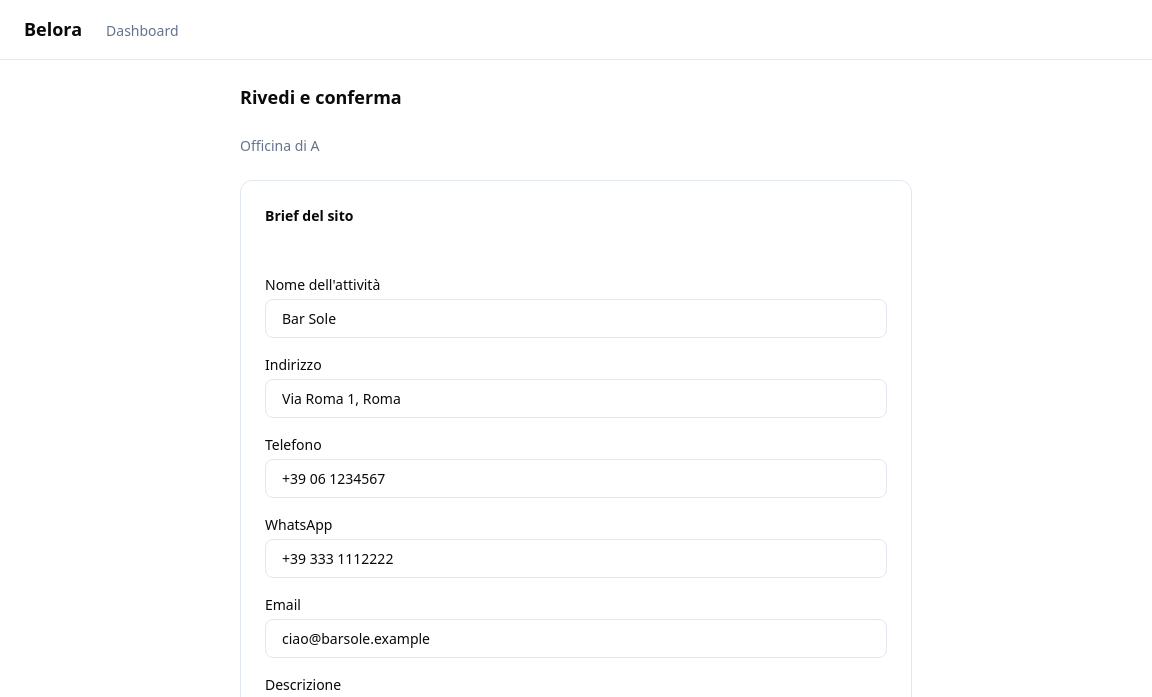
Test: T-152 gli edit del recap passano da upsertBrief › salvataggio riuscito: si dichiara che il server puo scartare campi, non che tutto e salvato
The width and height of the screenshot is (1152, 697).
Replace the text in the field labelled "Nome dell'attività" with "Bar Sole Bis" at (576, 318), box [265,299,887,338]
(page scrolled)
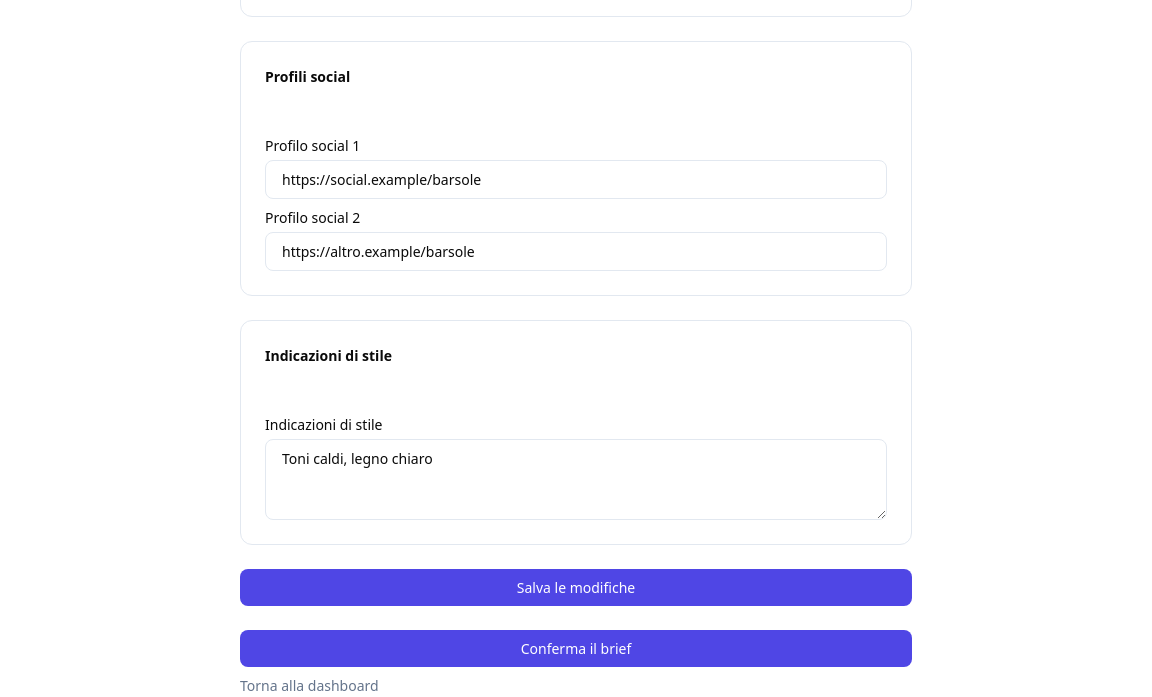
Click the button "Salva le modifiche" at (576, 588), box [240,569,912,606]
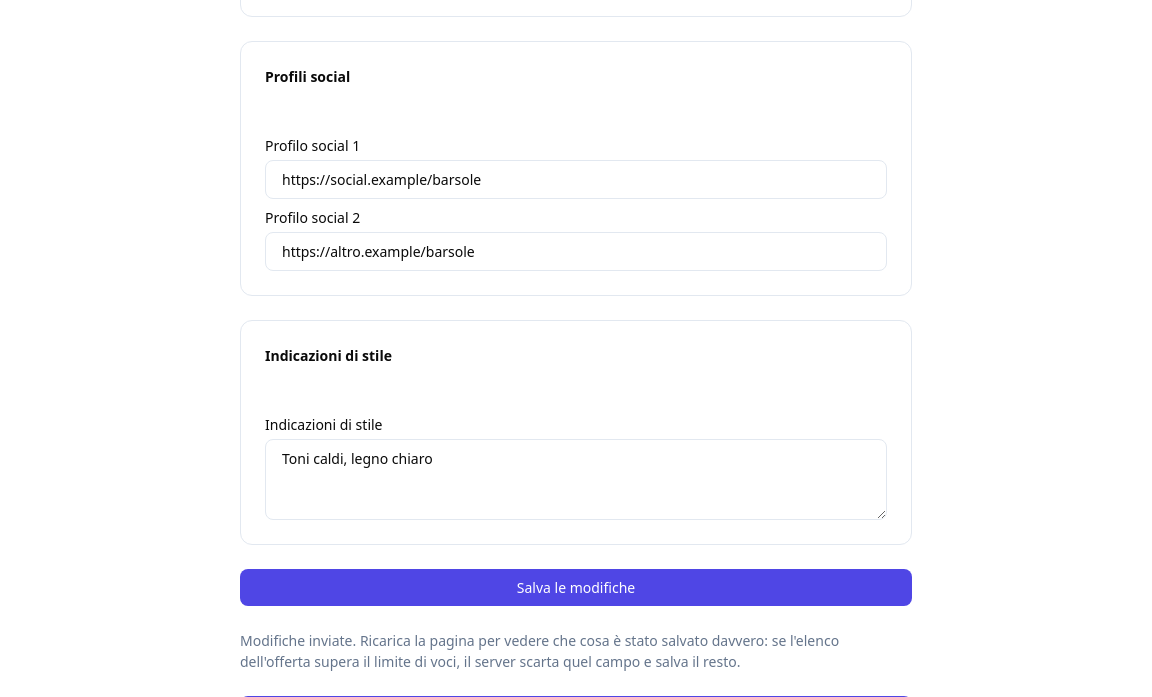
Now the text "Modifiche inviate. Ricarica la pagina per vedere che cosa è stato salvato davvero: se l'elenco dell'offerta supera il li" is shown, box [240,631,839,671]
